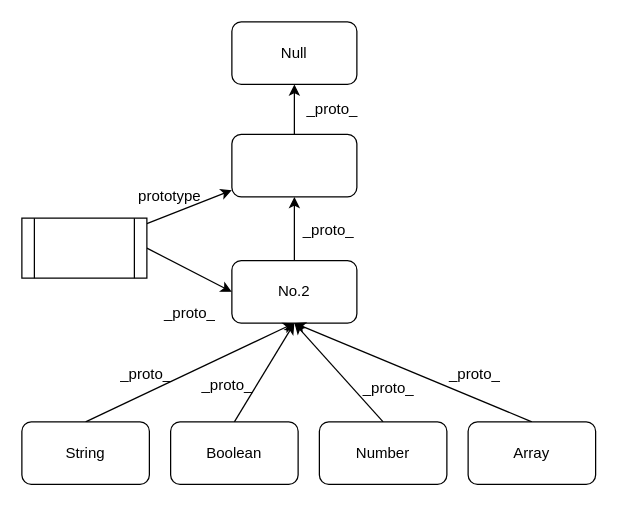
This 618x506 diagram has some shape labels left out. The centre of each missing label's shape, as x and y in pixels:
No.1: pixel 294 165
Object: pixel 84 247
